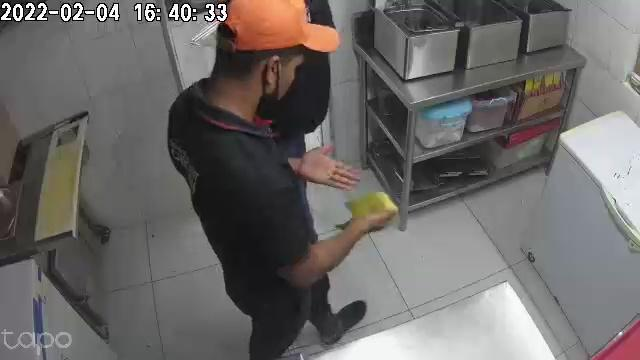no_gloves: (295, 146, 363, 192)
